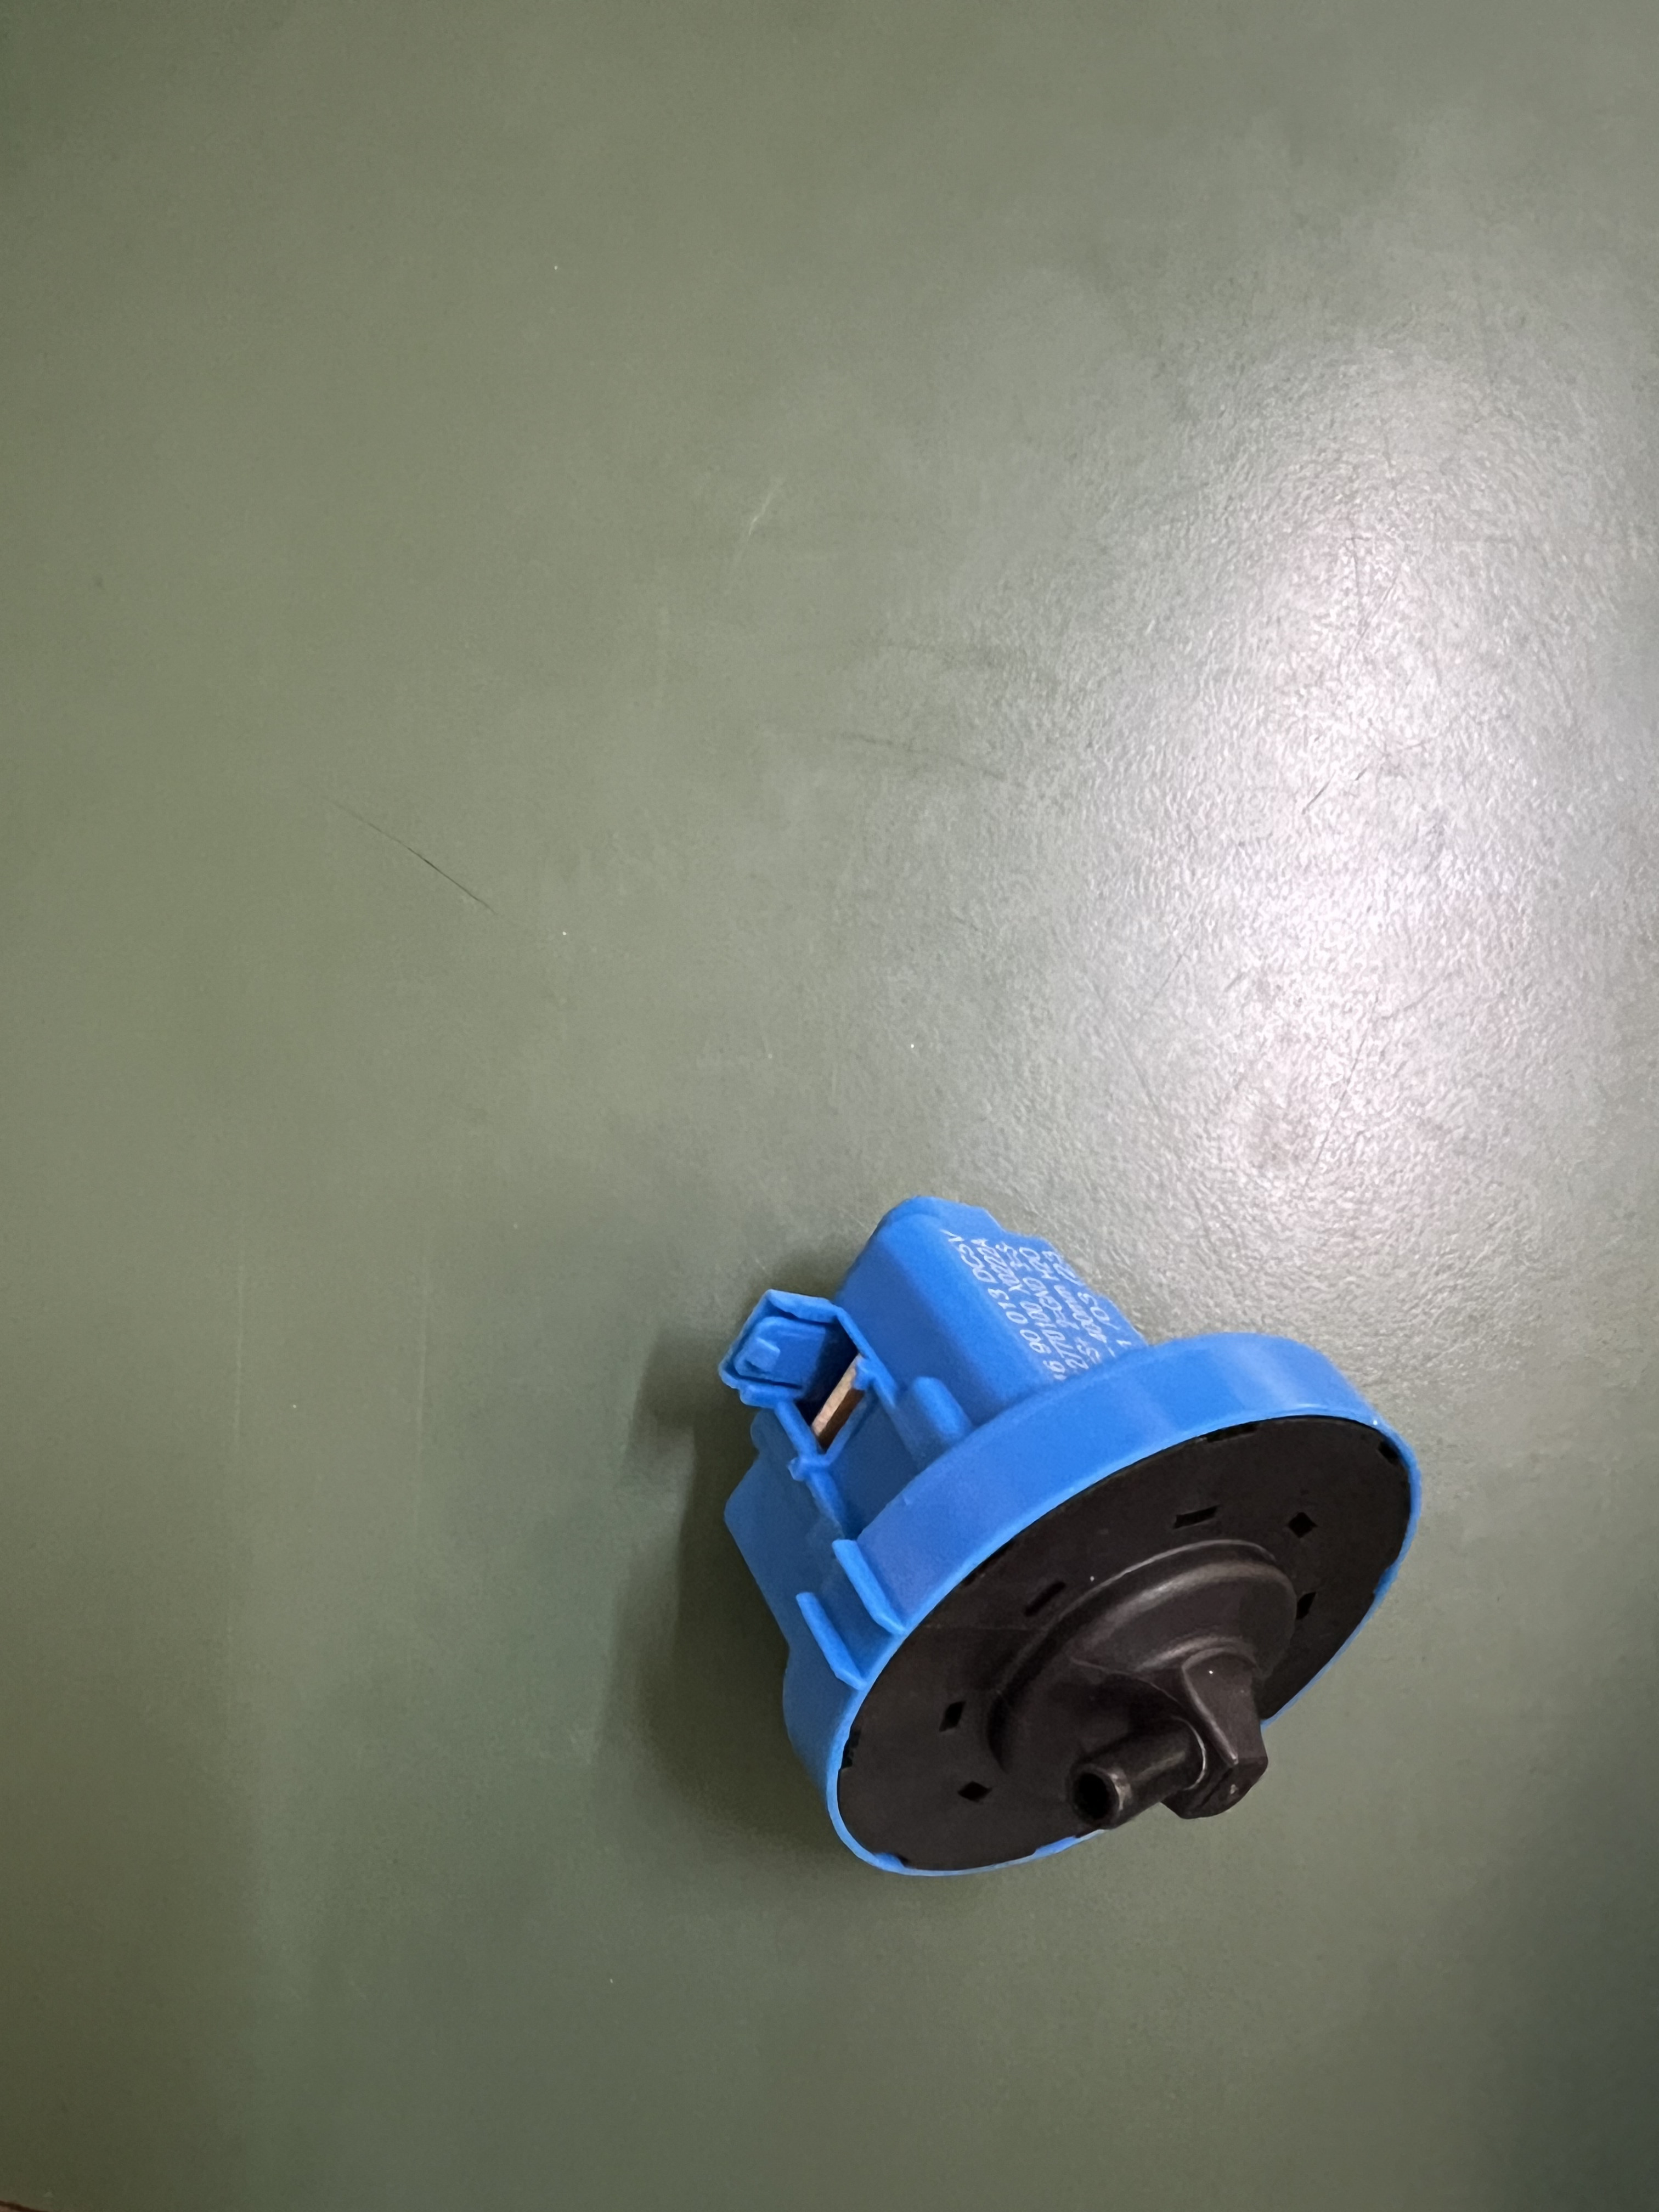voltas_beko_pressure_switch: (680, 1160, 1455, 1890)
